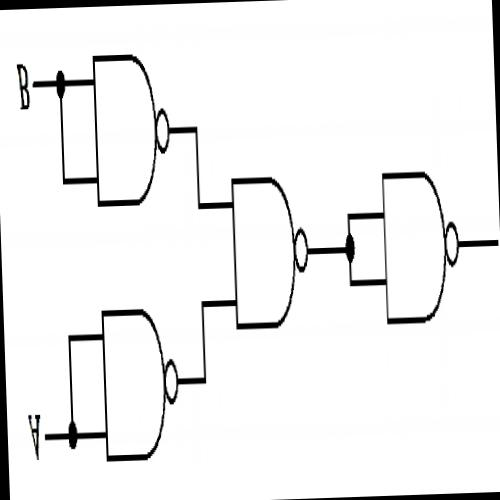nand: (86, 39, 176, 218), (95, 296, 186, 473), (375, 157, 465, 335), (224, 163, 314, 340)
